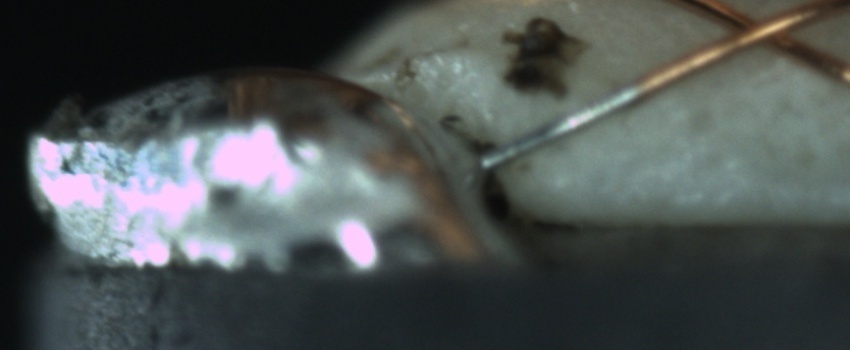CL: (710, 1, 814, 61)
TS: (472, 84, 636, 174)
